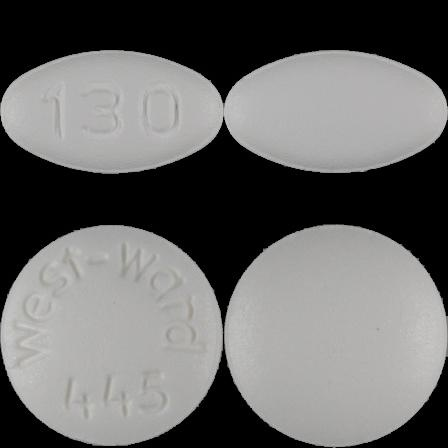63629-4023: (0, 0, 224, 224)
